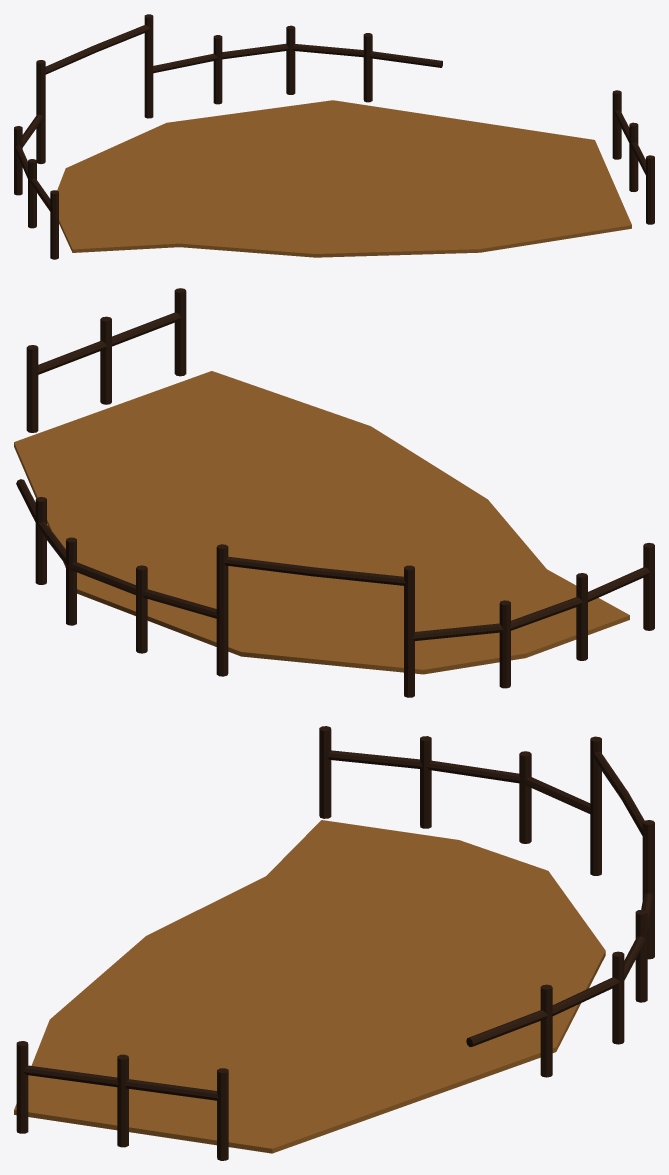
File: Field_Top_Right.fbx
3 views of the same model, one above another, from view 1: azimuth 30°, elevation 25°; view 2: azimuth 150°, elevation 25°; view 3: azimuth 270°, elevation 25° (orthographic). The views are drawn at different scales.
Parts seen in each view (by area): view 1: FieldTopRight; view 2: FieldTopRight; view 3: FieldTopRight.
Boxes of the visible parts, x1,y1,x2,y2 form: FieldTopRight: [14, 14, 654, 259]; FieldTopRight: [14, 288, 654, 697]; FieldTopRight: [14, 726, 654, 1160].
Bounding box in the file's own units: 14.9 × 2.69 × 11.63.
